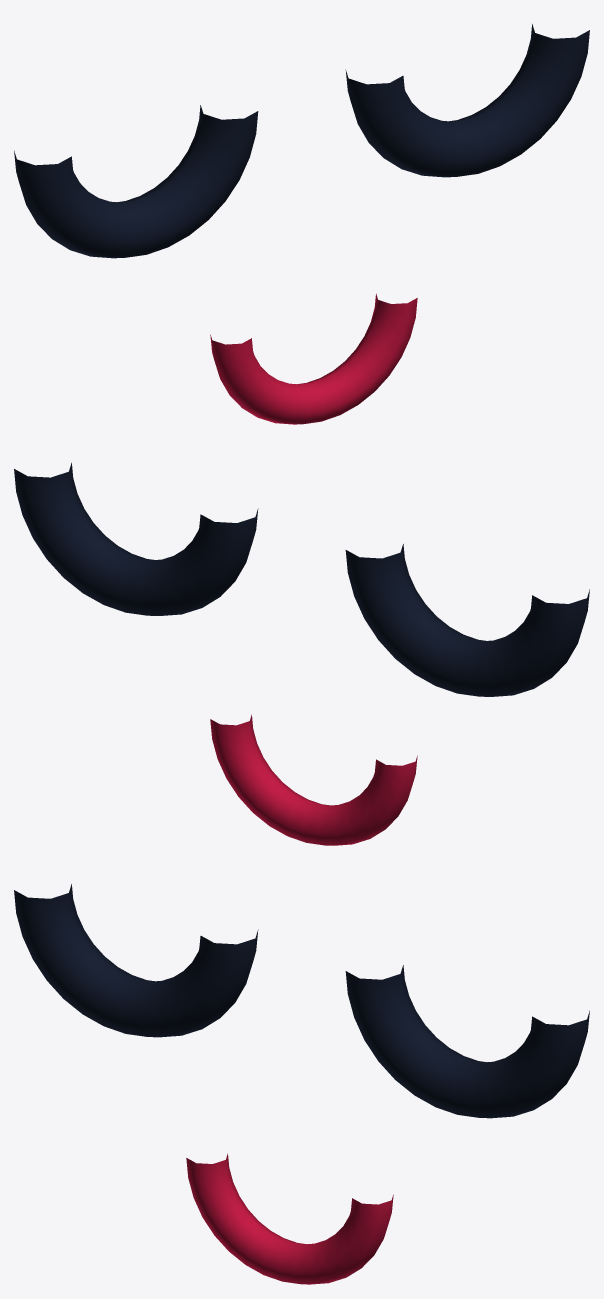
The model's file is happy.glb.
The picture shows the model from 3 angles, top to bottom: view 1: azimuth 30°, elevation 25°; view 2: azimuth 150°, elevation 25°; view 3: azimuth 330°, elevation 25°; orthographic projection.
Size of the model in its own units: 5.5 by 2.98 by 0.63.
